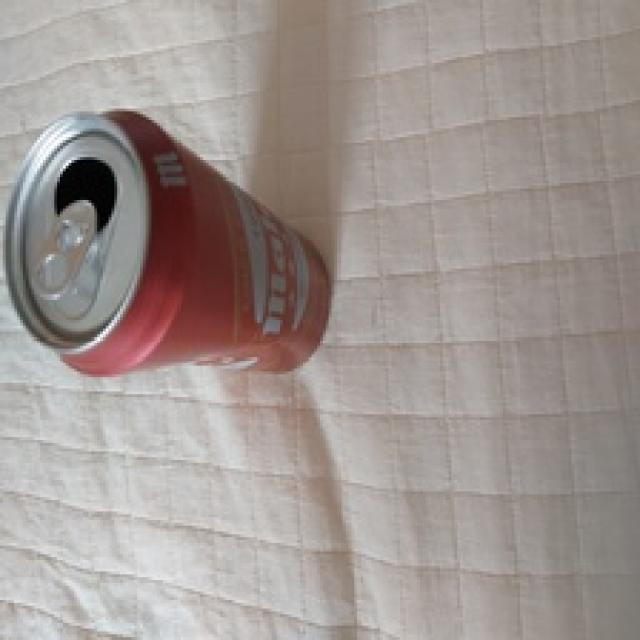recyclable: (6, 107, 335, 380)
